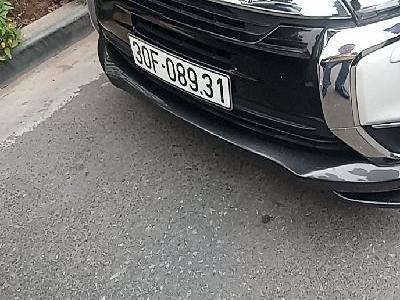lisence: (127, 29, 233, 114)
